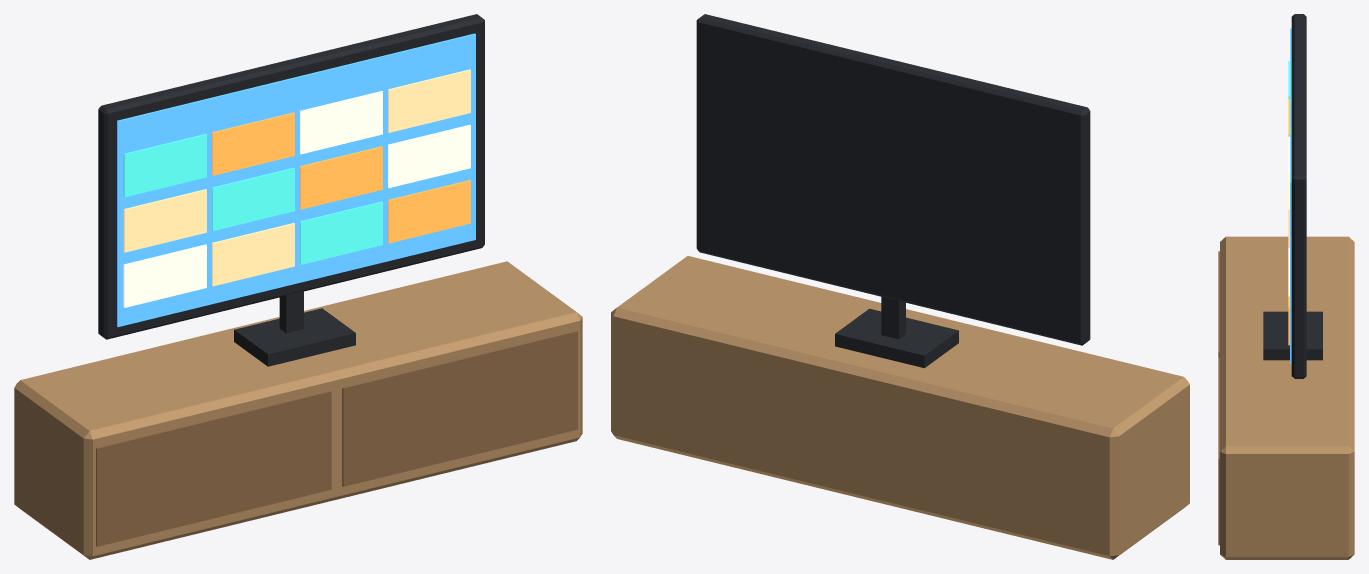
File: tv_stand.glb
3 renders of one model, left to right at view 1: azimuth 30°, elevation 25°; view 2: azimuth 150°, elevation 25°; view 3: azimuth 270°, elevation 25°, orthographic. The views are drawn at different scales.
Visible parts, largest first — view 1: tv_stand_mesh; view 2: tv_stand_mesh; view 3: tv_stand_mesh.
Part boxes in pixels (x1,y1,x2,y2): tv_stand_mesh: (14,14,582,559); tv_stand_mesh: (611,14,1189,559); tv_stand_mesh: (1218,14,1354,559).
Size of the model in its own units: 1.7 by 1.33 by 0.455.
